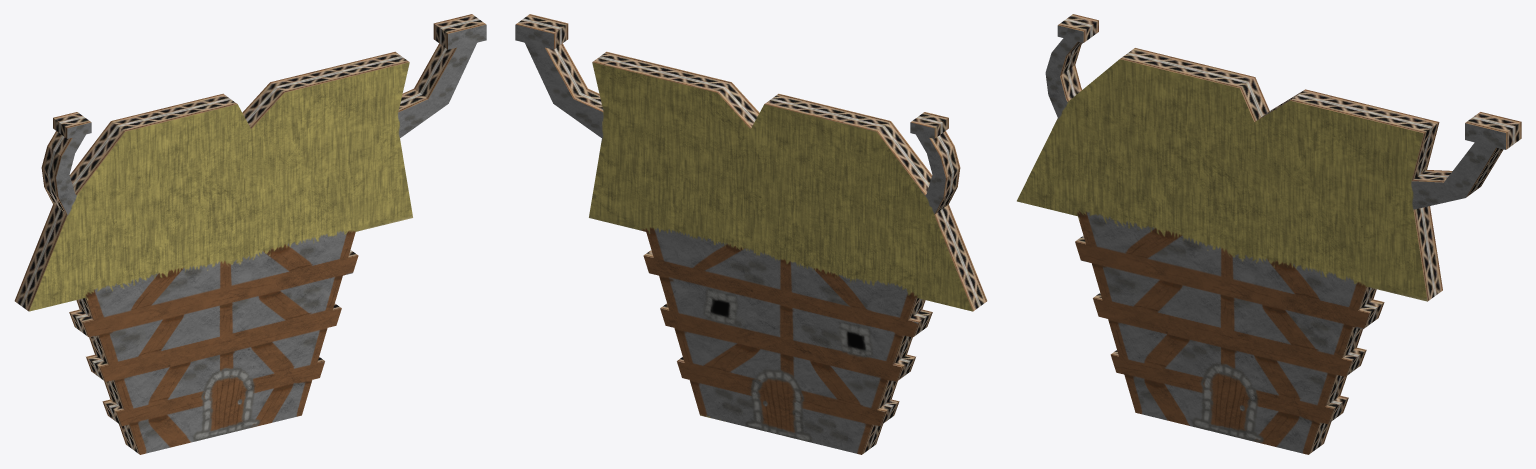
The model's file is Niv 1 House 2.fbx.
The picture shows the model from 3 angles, left to right: view 1: azimuth 30°, elevation 25°; view 2: azimuth 150°, elevation 25°; view 3: azimuth 330°, elevation 25°; orthographic projection. The views are drawn at different scales.
Visible parts, largest first — view 1: maison 2; view 2: maison 2; view 3: maison 2.
Boxes of the visible parts, box(x1,y1,x2,y2) form: maison 2: box(14, 14, 486, 454); maison 2: box(515, 14, 987, 454); maison 2: box(1017, 14, 1521, 454).
Bounding box in the file's own units: 8147 × 446 × 5884.
